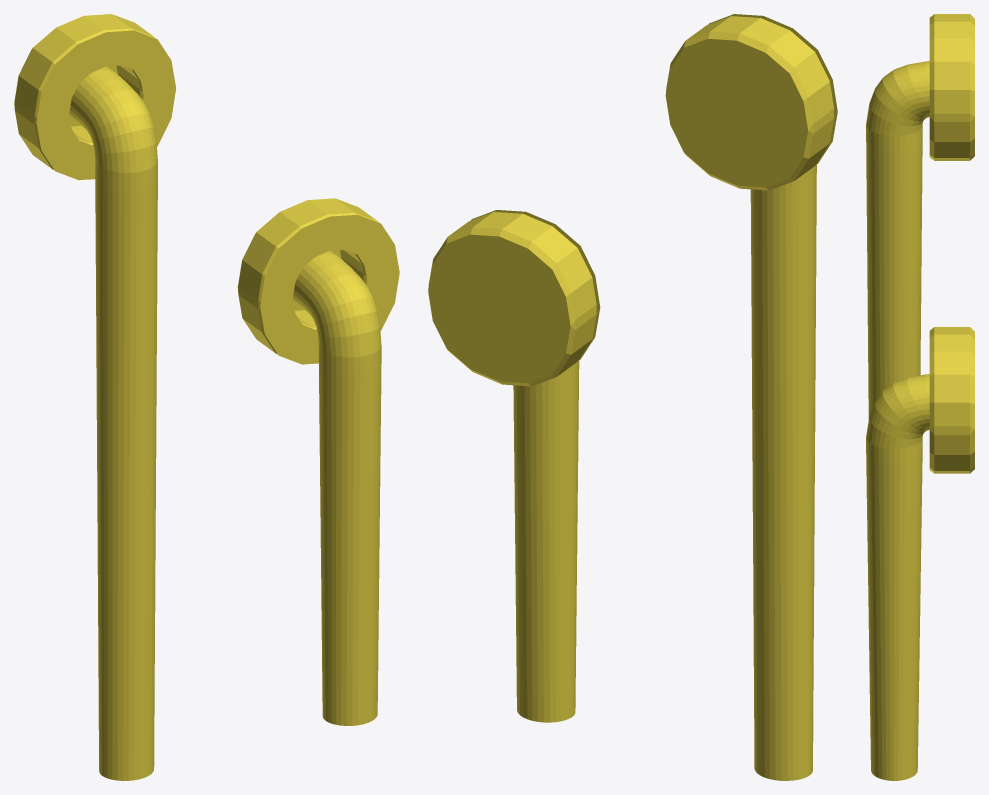
File: DoublePipe.fbx
The picture shows the model from 3 angles, left to right: view 1: azimuth 30°, elevation 25°; view 2: azimuth 150°, elevation 25°; view 3: azimuth 270°, elevation 25°; orthographic projection. The views are drawn at different scales.
Visible parts, largest first — view 1: BOX.017; view 2: BOX.017; view 3: BOX.017.
Boxes of the visible parts, bbox=[...] form: BOX.017: bbox=[14, 14, 399, 780]; BOX.017: bbox=[428, 14, 837, 780]; BOX.017: bbox=[866, 14, 974, 780].
Bounding box in the file's own units: 75.92 × 144 × 21.88.
